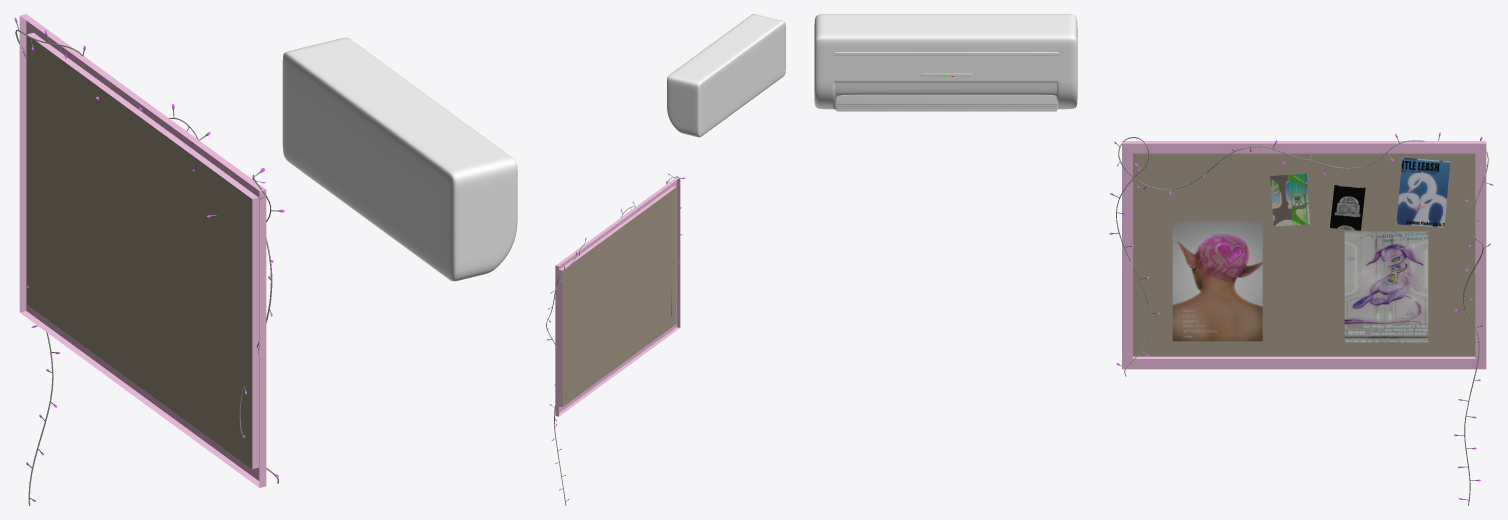
The model's file is left_wall.gltf.
3 views of the same model, side by side, from view 1: azimuth 30°, elevation 25°; view 2: azimuth 150°, elevation 25°; view 3: azimuth 270°, elevation 25° (orthographic). The views are drawn at different scales.
Visible parts, largest first — view 1: left_wall; view 2: left_wall; view 3: left_wall.
Part boxes in pixels (x1,y1,x2,y2): left_wall: [14, 14, 517, 505]; left_wall: [546, 14, 785, 505]; left_wall: [814, 14, 1493, 505].
Size of the model in its own units: 1.45 by 12.79 by 16.04.
